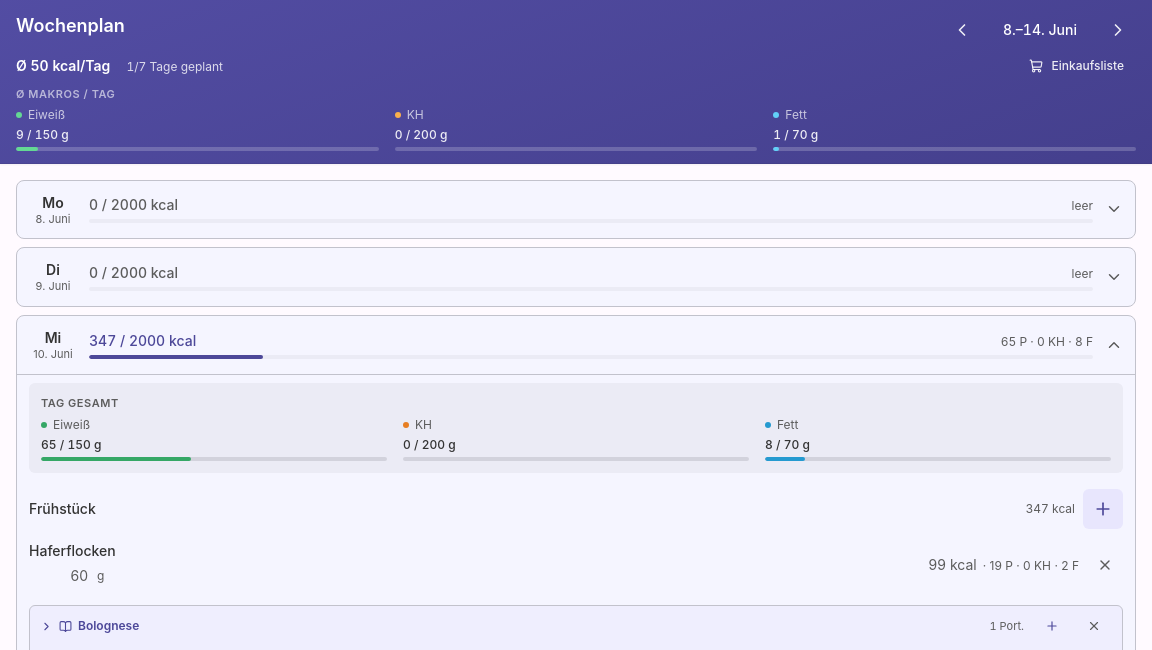
Test: PlannerScreen — daily-log parity in slot bodies › renders a recipe batch as a grouped card with banner, exactly like the daily log
Expected: the text "Bolognese" is shown, left=78, top=618, right=139, bottom=633
Expected: the text "1 Port." is shown, left=990, top=619, right=1024, bottom=633
Click the button with aria-label "Zutaten von „Bolognese“": click(109, 626) left=40, top=614, right=980, bottom=638
(page scrolled)
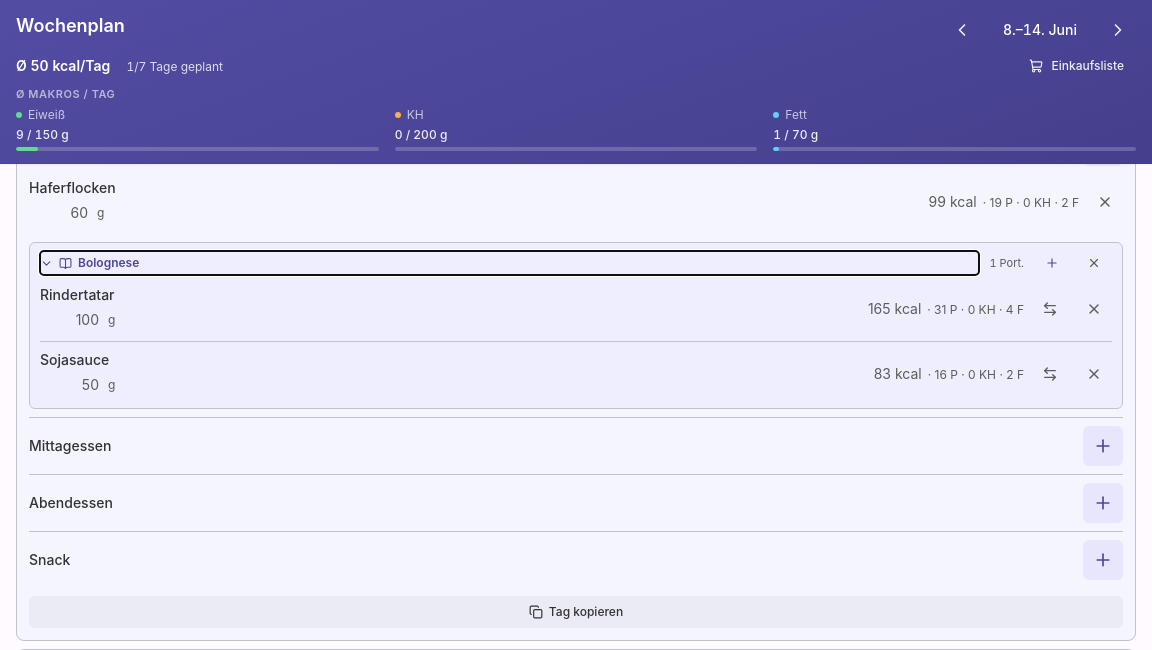
Now the text "Rindertatar" is shown, box left=40, top=285, right=115, bottom=305
Now the text "Sojasauce" is shown, box left=40, top=350, right=115, bottom=370
